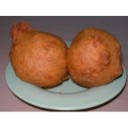bonda: (10, 19, 67, 88), (70, 26, 125, 85)
